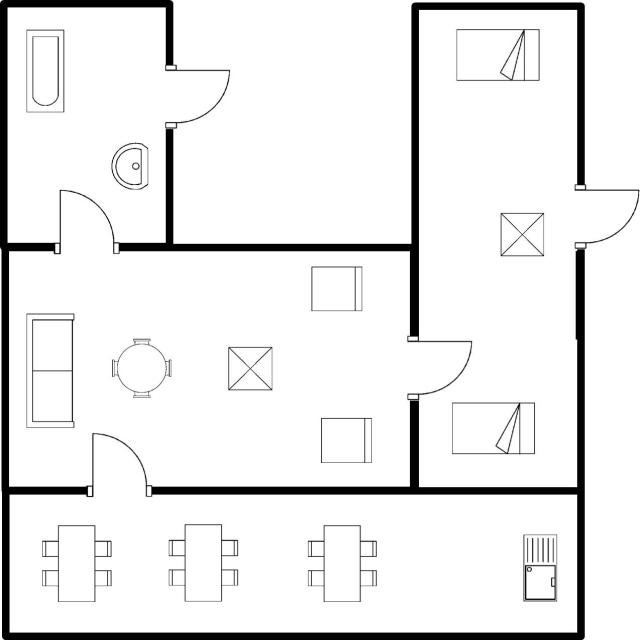bed: (452, 25, 544, 85), (448, 399, 538, 456)
coffee_table: (223, 341, 276, 394), (496, 208, 547, 260)
dining_table: (37, 520, 121, 606), (301, 521, 379, 606), (163, 520, 241, 604)
large_sofa: (23, 309, 78, 430)
round_table: (107, 334, 176, 401)
sink: (519, 531, 561, 608)
small_sink: (107, 138, 151, 195)
small_sofa: (317, 413, 377, 469), (307, 262, 366, 317)
tub: (23, 24, 67, 119)
